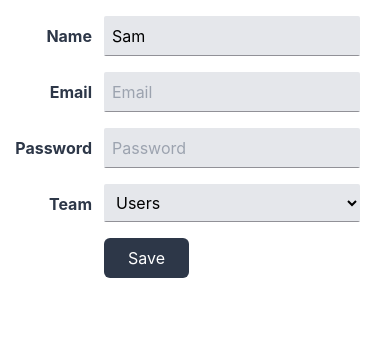
Test: Dashboard › validates the form
Select "not supported option" in the dropdown labelled "Team" at (232, 203), box [104,184,360,222]
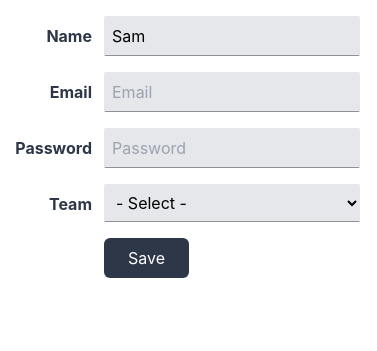
Leave the dropdown labelled "Team", box [104,184,360,222]
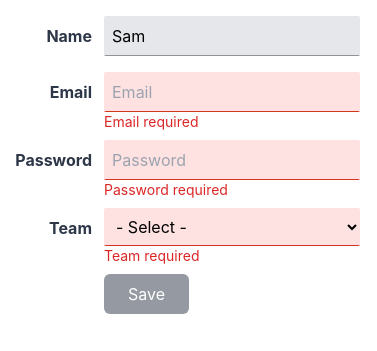
Result: the text "Password required" is shown at [104,181,228,198]
Result: the text "Email required" is shown at [104,113,198,130]
Result: the text "Team required" is shown at [104,247,200,264]
Type "123" into the password field with placeholder "Password" at (232, 160), box [104,140,360,180]
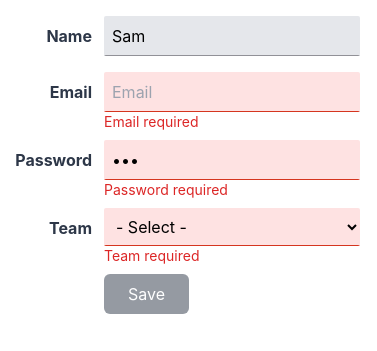
Type "sam@" into the field with placeholder "Email" at (232, 92), box [104,72,360,112]
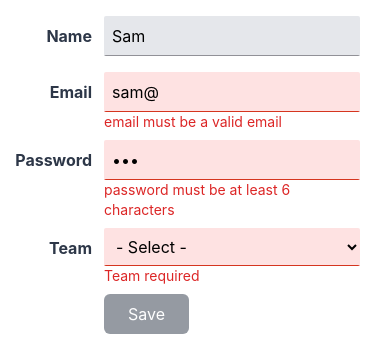
Result: the text "password must be at least 6 characters" is shown at [104,181,290,218]
Result: the text "email must be a valid email" is shown at [104,113,282,130]
